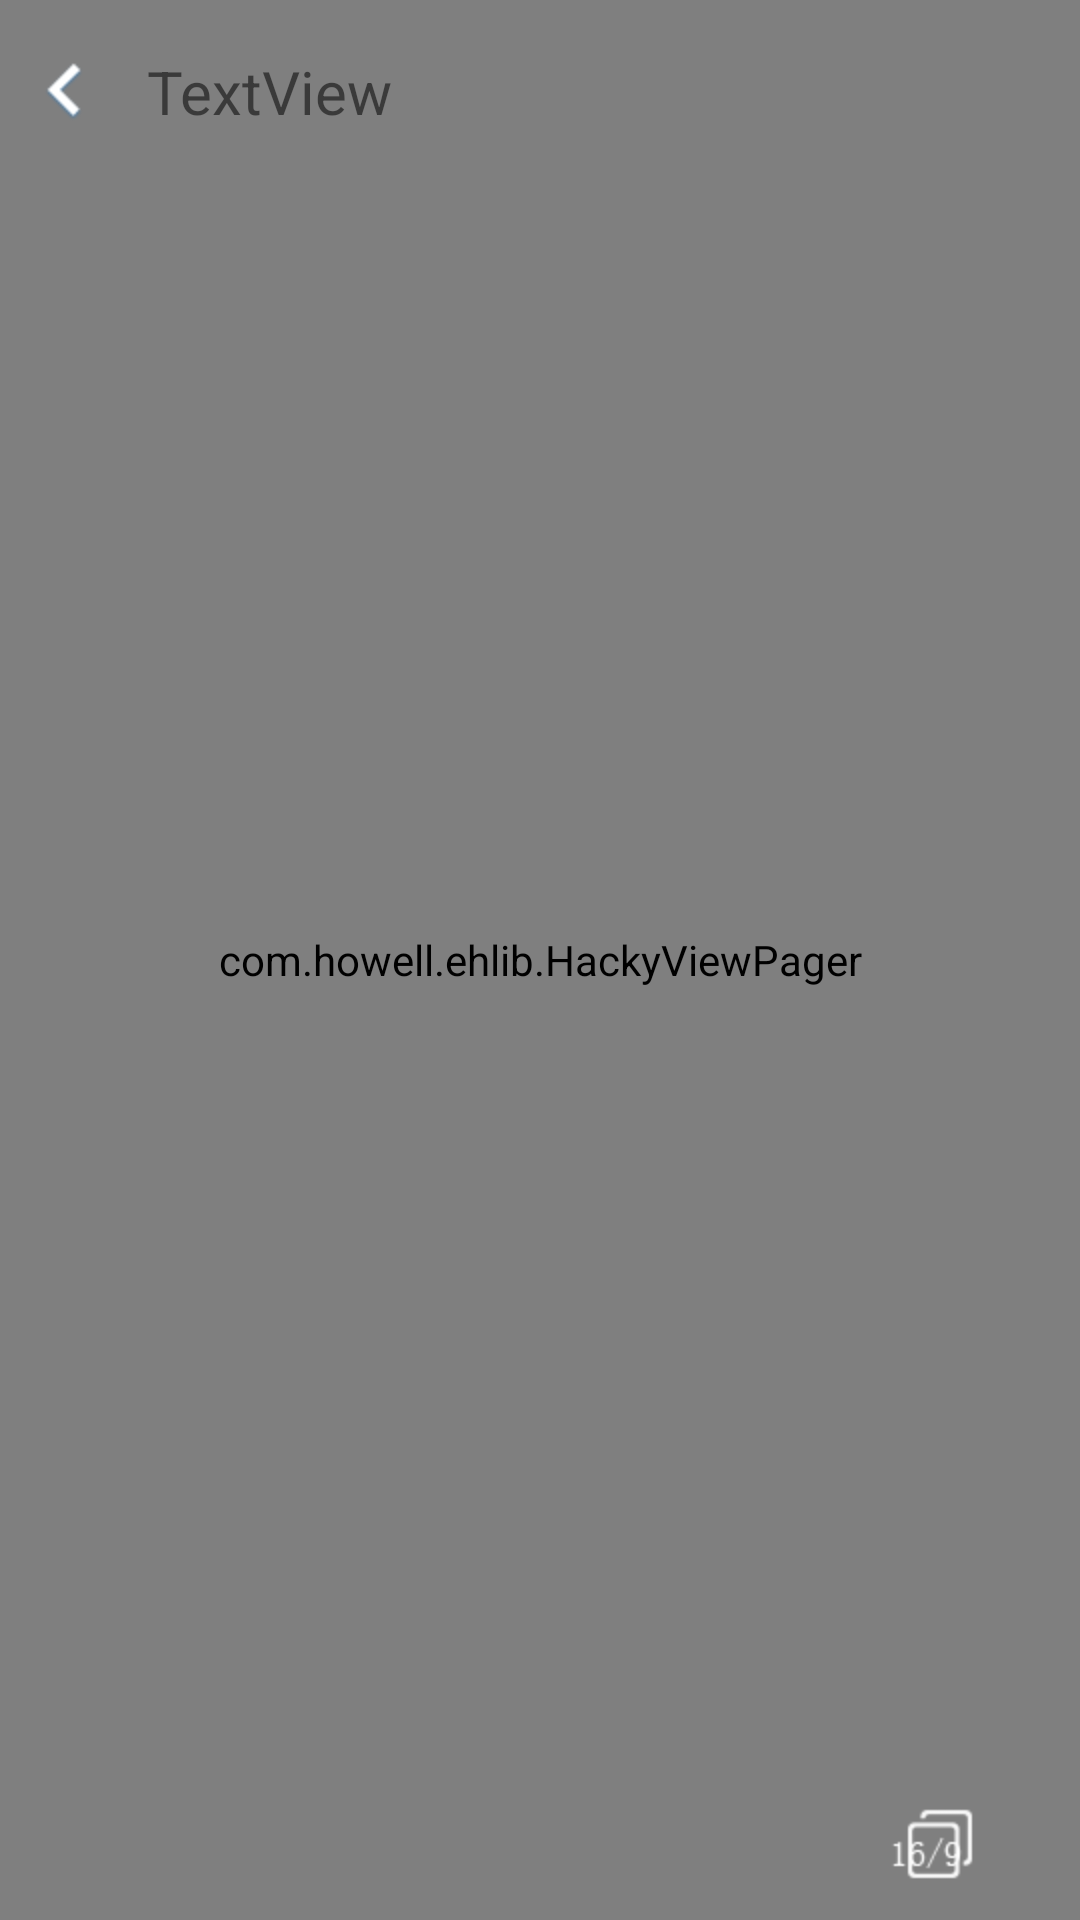

Point at icon controls on the screen. Image size 1080w x 1920h, points as (x,y).
back: (64,90)
